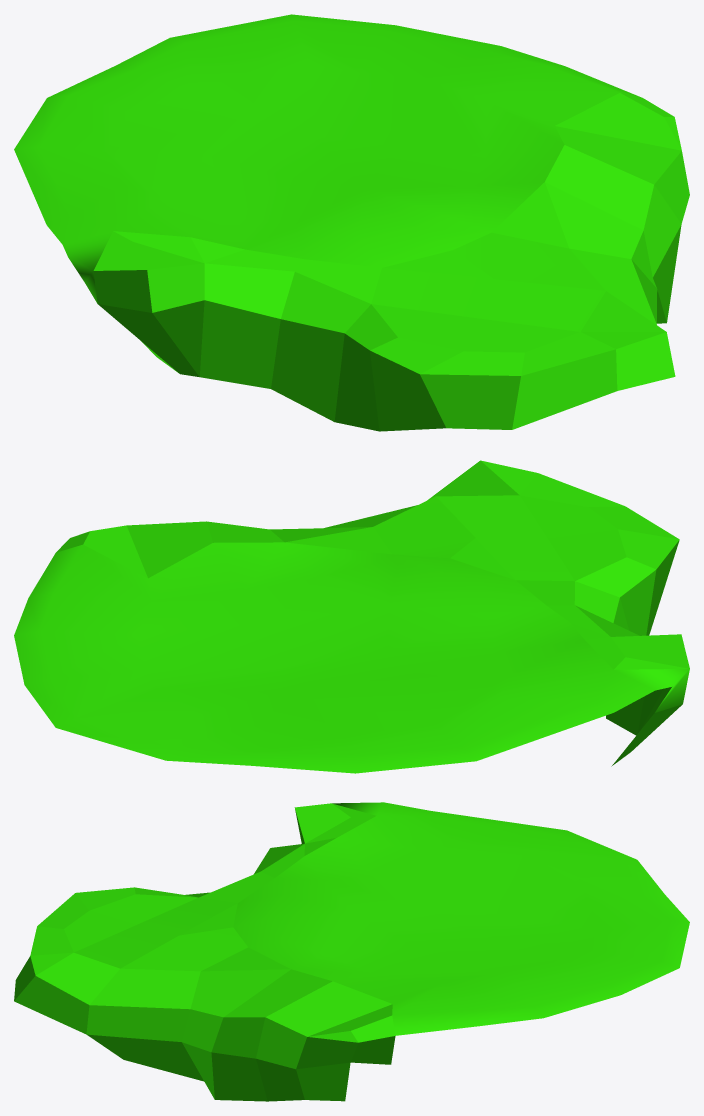
Rendered from Floor_Break_06_Collider.fbx.
The picture shows the model from 3 angles, top to bottom: view 1: azimuth 30°, elevation 25°; view 2: azimuth 150°, elevation 25°; view 3: azimuth 270°, elevation 25°; orthographic projection. The views are drawn at different scales.
Parts seen in each view (by area): view 1: Floor_Break_06_Collider; view 2: Floor_Break_06_Collider; view 3: Floor_Break_06_Collider.
Boxes of the visible parts, bbox=[...] form: Floor_Break_06_Collider: bbox=[14, 14, 689, 431]; Floor_Break_06_Collider: bbox=[14, 460, 689, 773]; Floor_Break_06_Collider: bbox=[14, 802, 689, 1101].
Size of the model in its own units: 918 by 197 by 1104.
